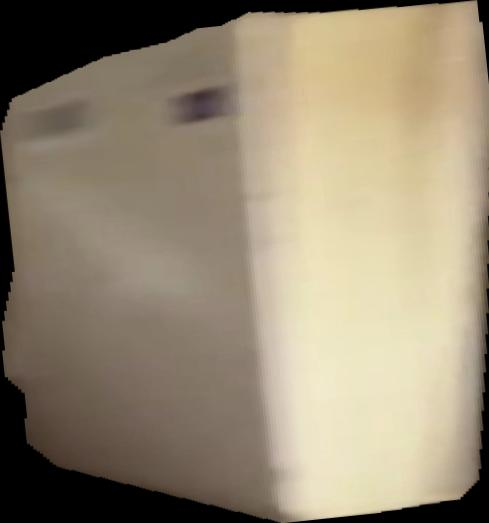backward: (1, 1, 489, 523)
